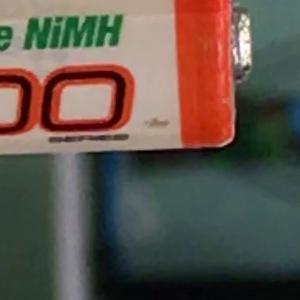keyword: (13, 5, 133, 60)
